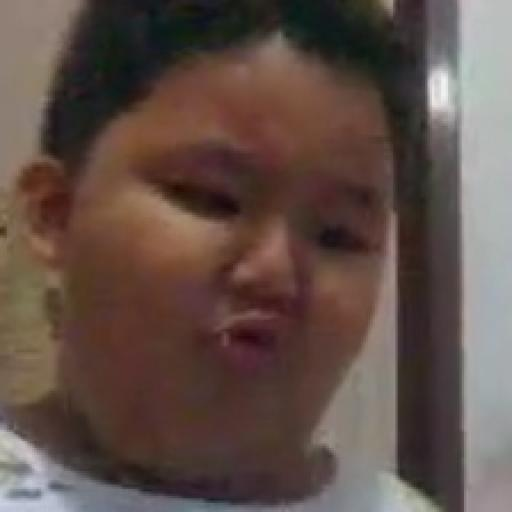Autism: (66, 0, 471, 473)
